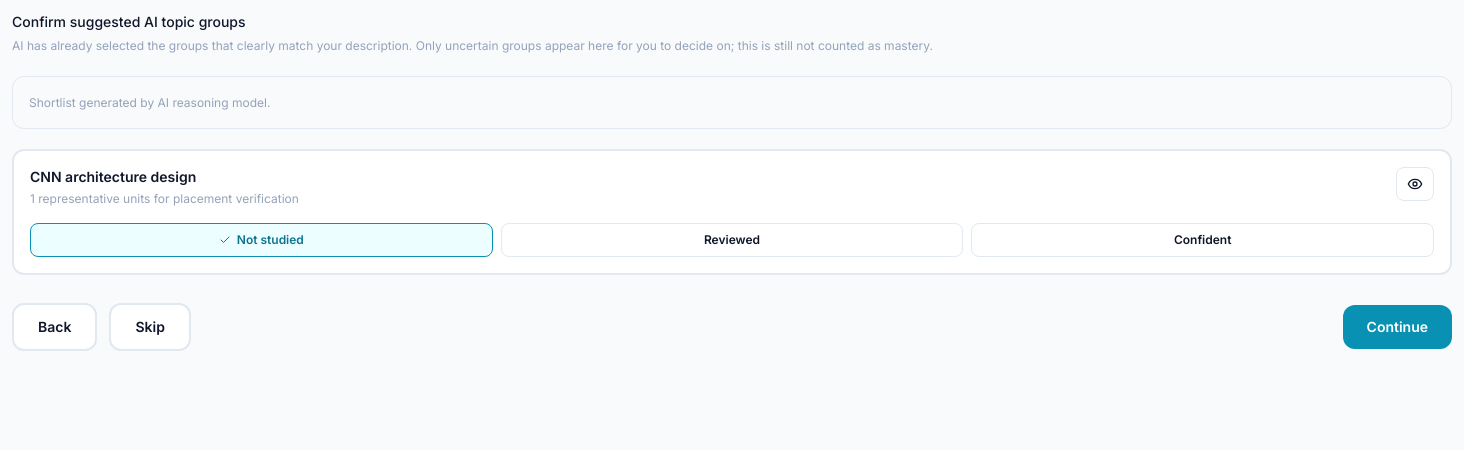
Test: StepKnownTopicsFiltered › eye button reveals a summarized representative content preview
Click the button named "Quick view CNN architecture design". click: (1415, 184)
box: [1396,167,1434,201]
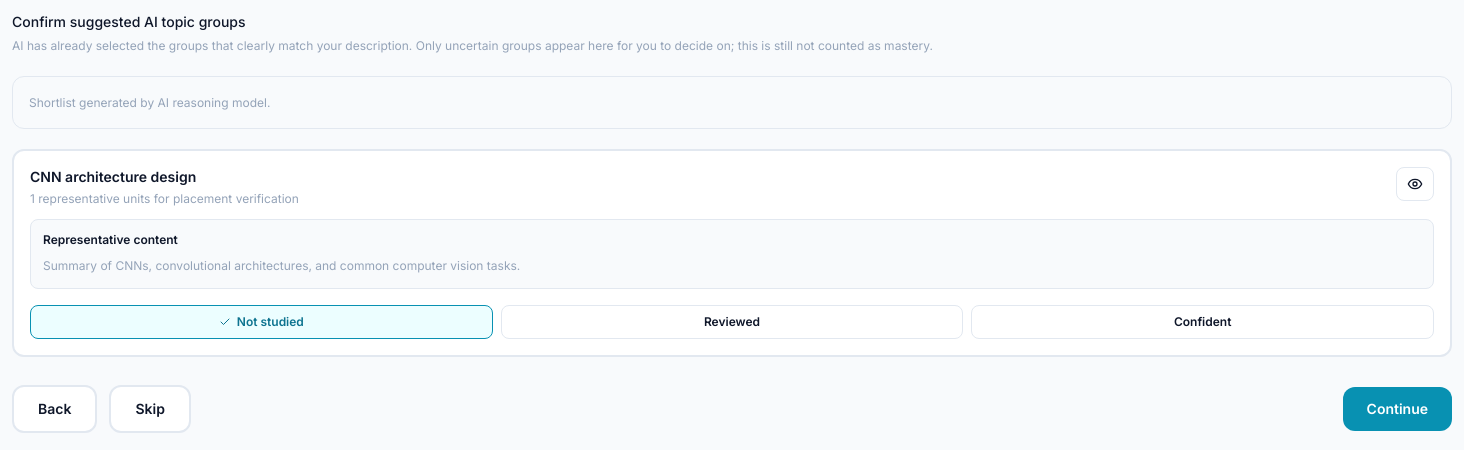
Check: the text "Summary of CNNs, convolutional architectures, and common computer vision tasks." is shown, box [43,258,520,273]
